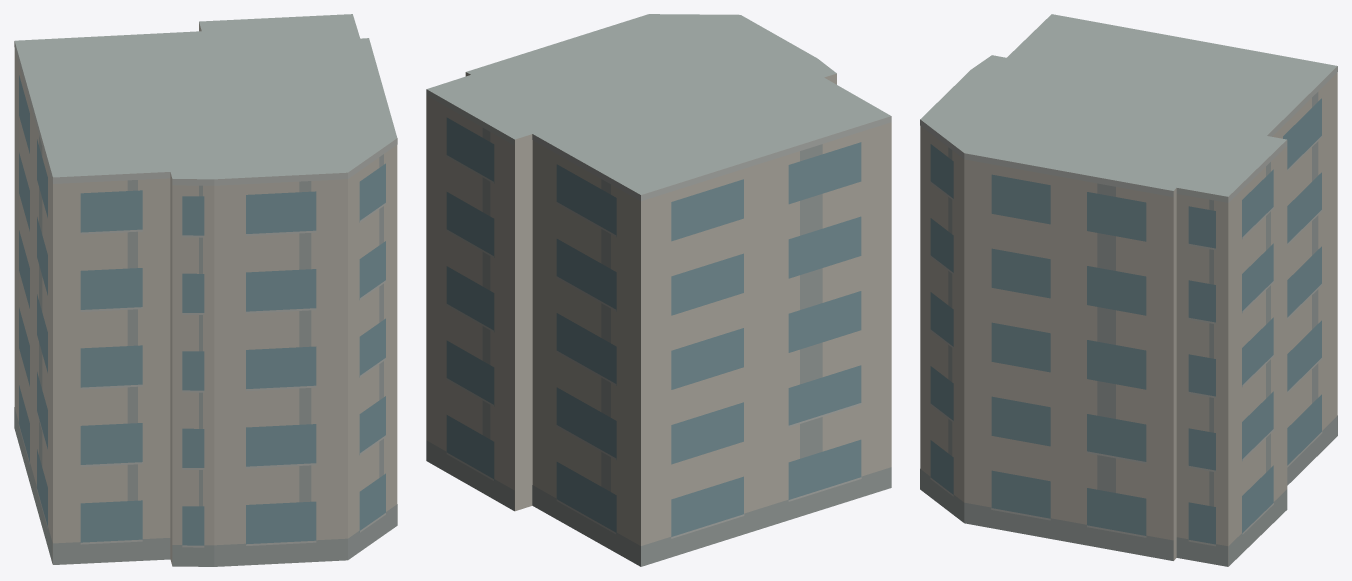
The model's file is survey-upis-32851405.glb.
The picture shows the model from 3 angles, left to right: view 1: azimuth 30°, elevation 25°; view 2: azimuth 150°, elevation 25°; view 3: azimuth 270°, elevation 25°; orthographic projection. The views are drawn at different scales.
Parts seen in each view (by area): view 1: survey-upis-32851405.tmp; view 2: survey-upis-32851405.tmp; view 3: survey-upis-32851405.tmp.
Part boxes in pixels (bbox=[...]): survey-upis-32851405.tmp: bbox=[14, 14, 397, 566]; survey-upis-32851405.tmp: bbox=[426, 14, 891, 566]; survey-upis-32851405.tmp: bbox=[920, 14, 1337, 566].
Bounding box in the file's own units: 15.48 × 14.6 × 14.94.
